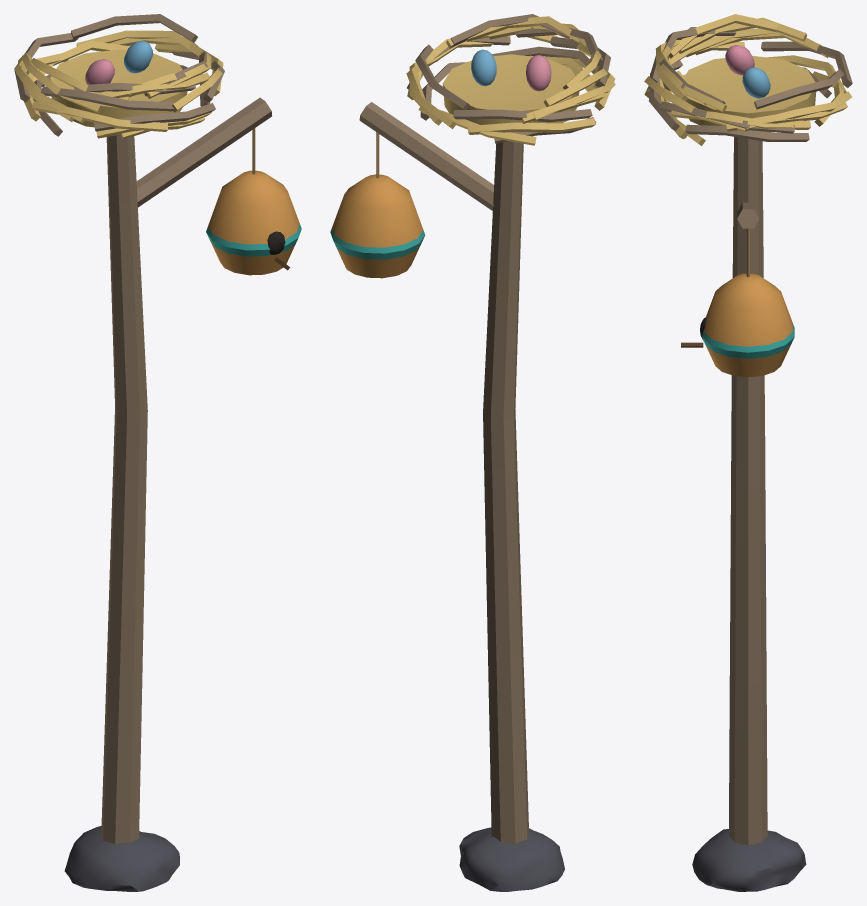
Rendered from deco_critter_nest_pole.fbx.
3 renders of one model, left to right at view 1: azimuth 30°, elevation 25°; view 2: azimuth 150°, elevation 25°; view 3: azimuth 270°, elevation 25°, orthographic.
Visible parts, largest first — view 1: CritterNest_Pole_Pole, CritterNest_Pole_Nest, CritterNest_Pole_Birdhouse; view 2: CritterNest_Pole_Pole, CritterNest_Pole_Nest, CritterNest_Pole_Birdhouse; view 3: CritterNest_Pole_Pole, CritterNest_Pole_Nest, CritterNest_Pole_Birdhouse.
Part boxes in pixels (x1=…): CritterNest_Pole_Pole: x1=64, y1=97, x2=271, y2=891; CritterNest_Pole_Nest: x1=14, y1=14, x2=224, y2=139; CritterNest_Pole_Birdhouse: x1=206, y1=128, x2=301, y2=275; CritterNest_Pole_Pole: x1=359, y1=102, x2=564, y2=891; CritterNest_Pole_Nest: x1=406, y1=14, x2=615, y2=145; CritterNest_Pole_Birdhouse: x1=330, y1=132, x2=425, y2=278; CritterNest_Pole_Pole: x1=692, y1=136, x2=806, y2=891; CritterNest_Pole_Nest: x1=644, y1=14, x2=852, y2=145; CritterNest_Pole_Birdhouse: x1=681, y1=228, x2=794, y2=377.
Size of the model in its own units: 109 by 324 by 74.44.
